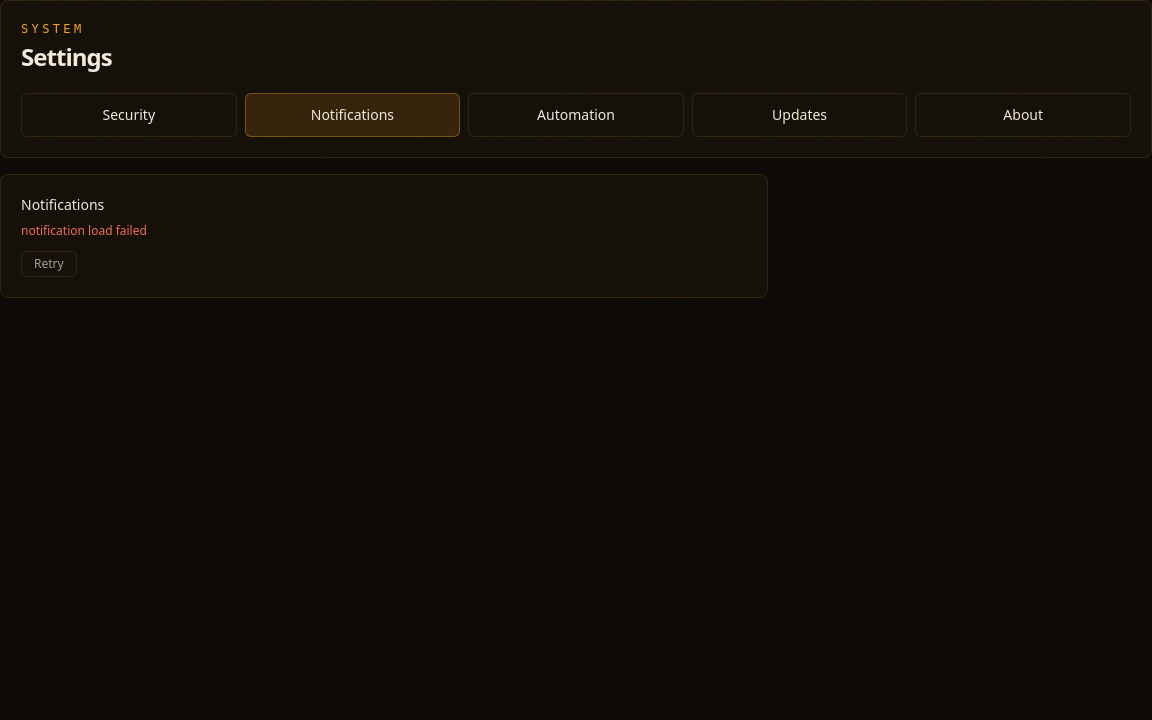
Test case: SettingsPage › retries only the active notification settings endpoint
Expected: the text "notification load failed" is shown, [21,222,147,239]
Click the button "Retry" at coordinates (49, 264), box [21,251,77,277]
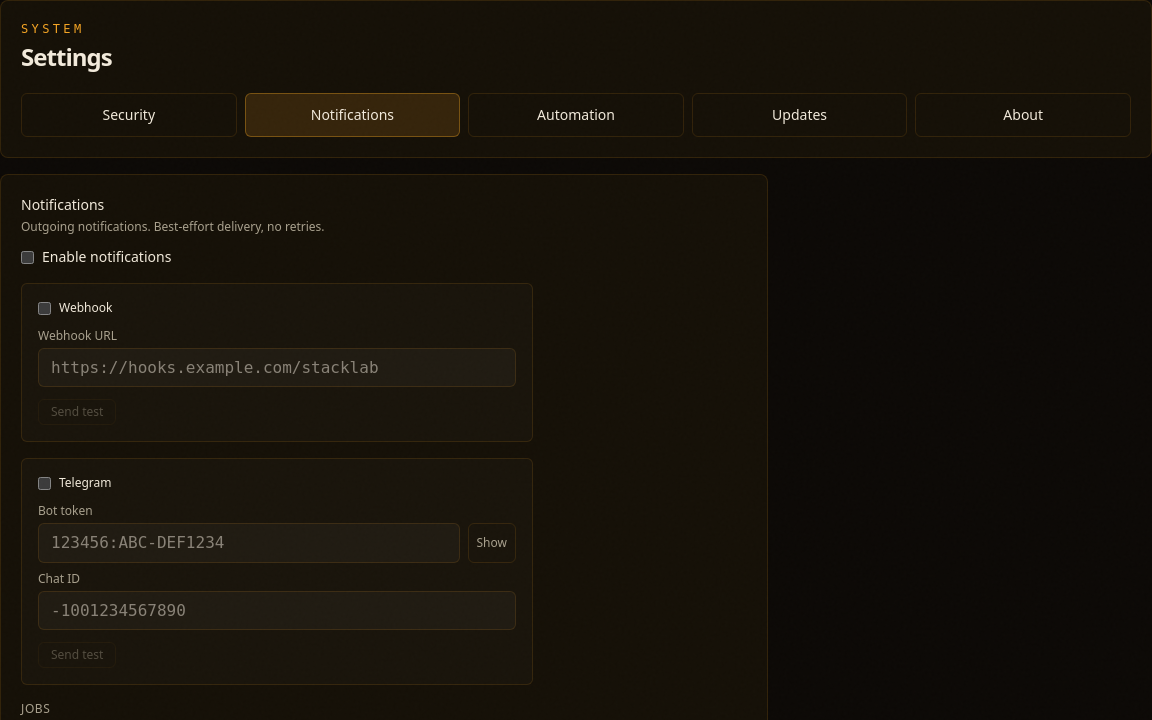
Expected: the checkbox labelled "Enable notifications" is shown, [21,250,34,264]
